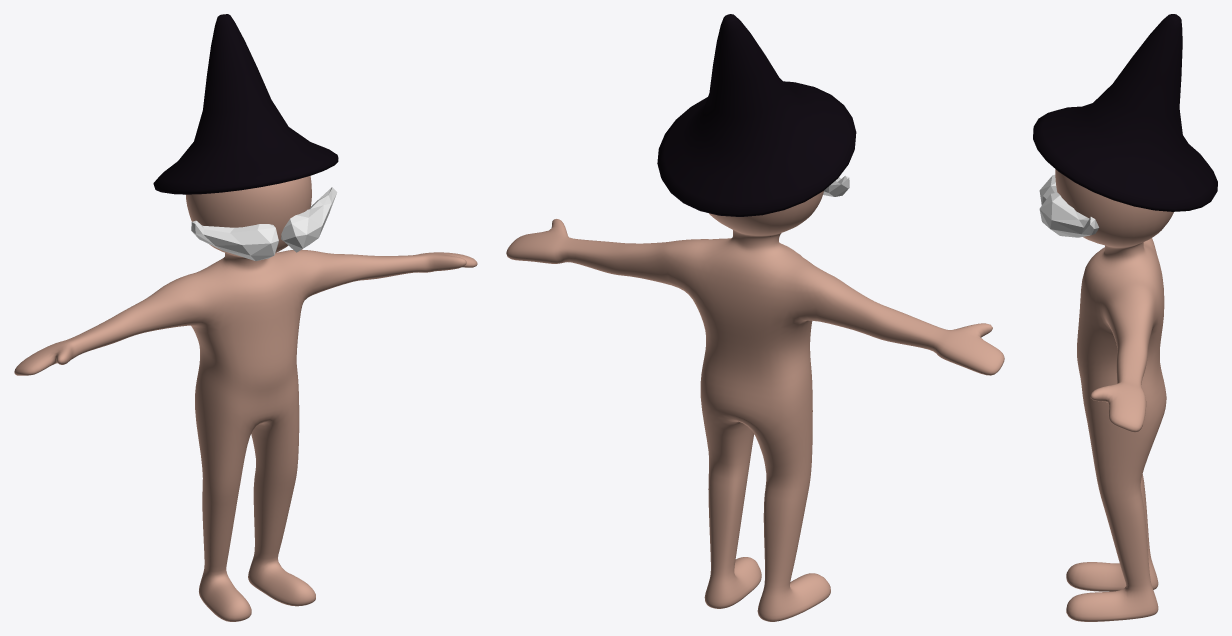
File: character 1.fbx
3 renders of one model, left to right at view 1: azimuth 30°, elevation 25°; view 2: azimuth 150°, elevation 25°; view 3: azimuth 270°, elevation 25°, orthographic. The views are drawn at different scales.
Visible parts, largest first — view 1: Cube.017, Circle.018, BezierCurve.003; view 2: Cube.017, Circle.018; view 3: Cube.017, Circle.018, BezierCurve.003.
Part boxes in pixels (x1,y1,x2,y2): Cube.017: (14, 176, 477, 621); Circle.018: (153, 14, 338, 194); BezierCurve.003: (191, 187, 337, 260); Cube.017: (506, 191, 1004, 621); Circle.018: (657, 14, 856, 216); Cube.017: (1055, 169, 1173, 621); Circle.018: (1033, 14, 1217, 211); BezierCurve.003: (1039, 174, 1099, 237).
Size of the model in its own units: 295 by 349 by 99.5.
